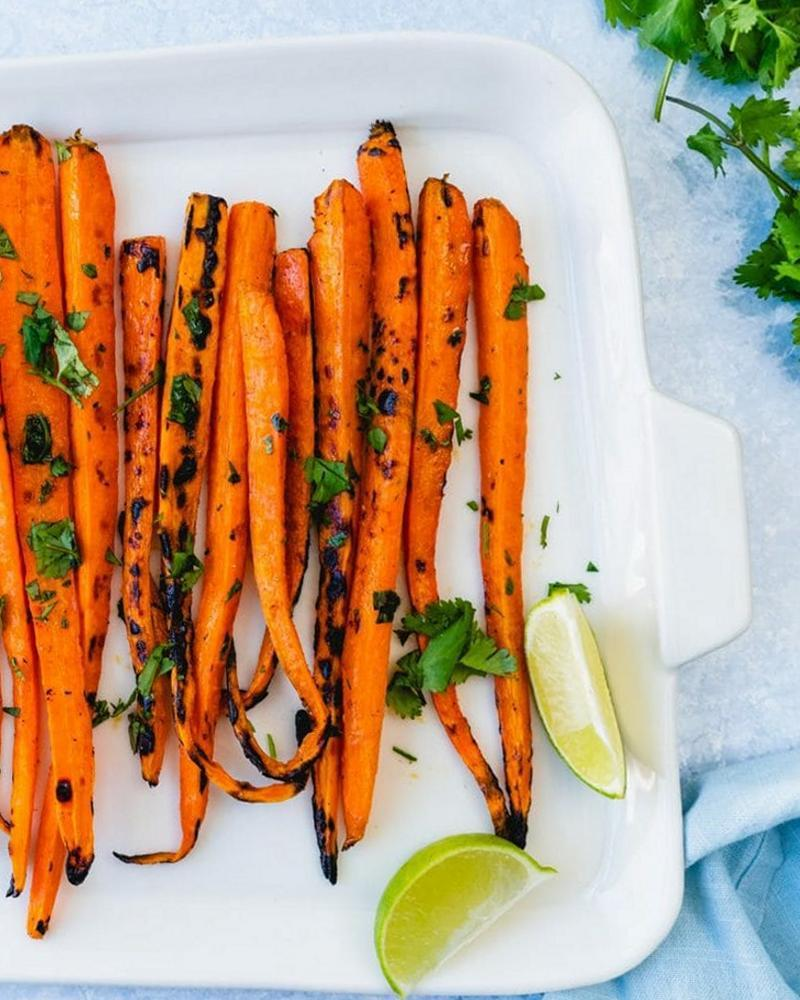carrot: (0, 133, 553, 850)
